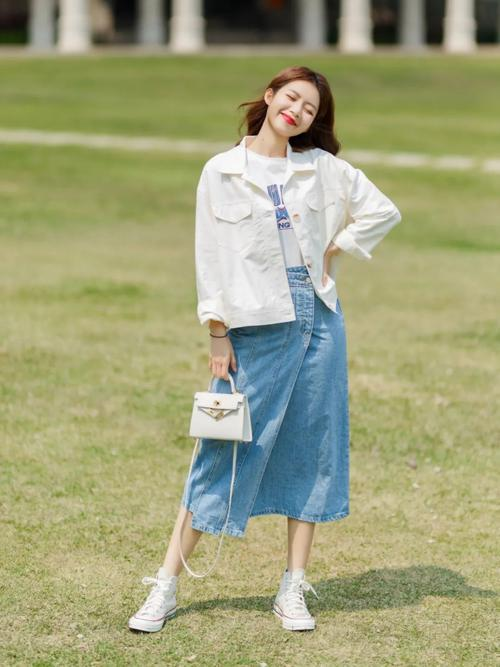up: (145, 53, 406, 651)
